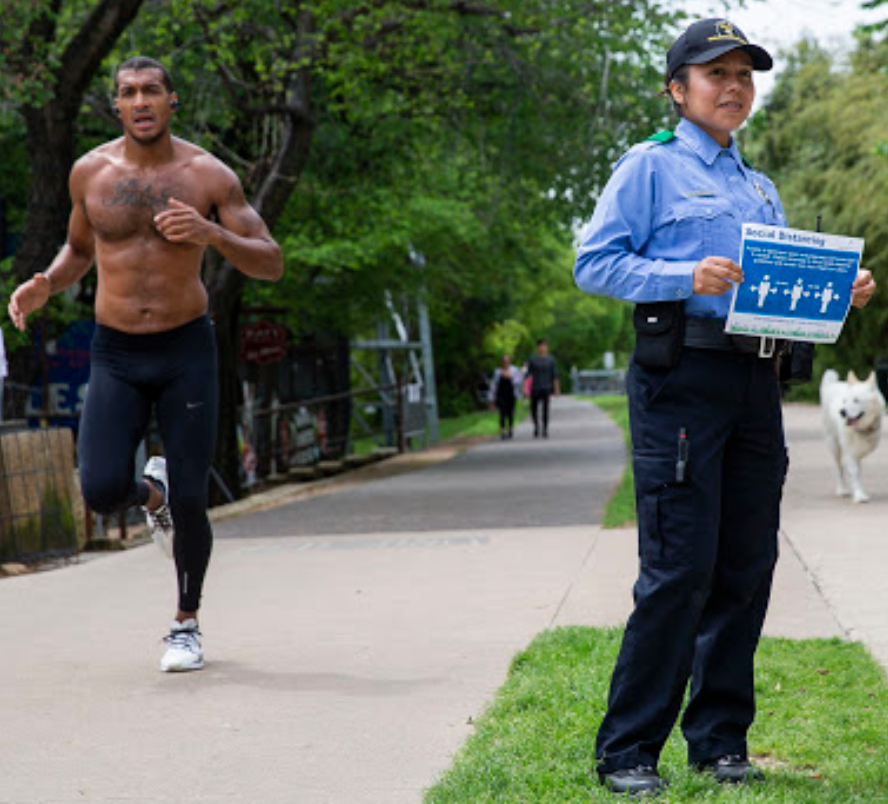Good: (11, 17, 870, 788)
